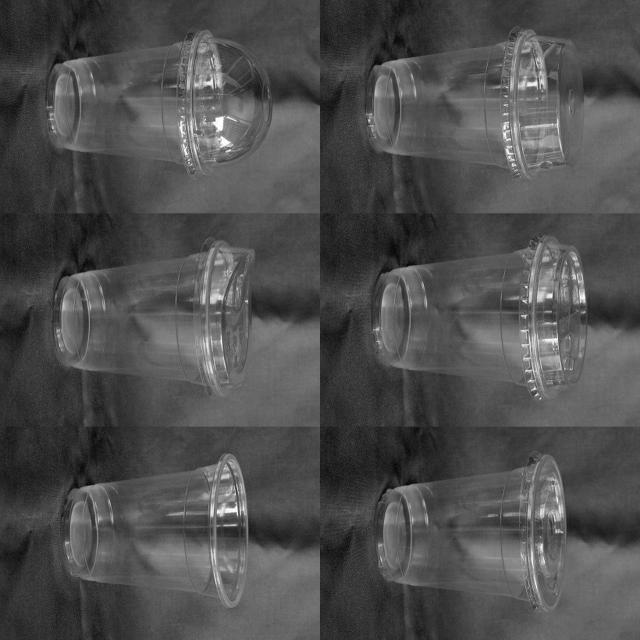Single-Use-Plastic: (373, 235, 587, 400), (46, 30, 271, 178), (367, 28, 583, 179), (54, 240, 255, 396), (375, 454, 567, 612), (64, 454, 248, 607)
